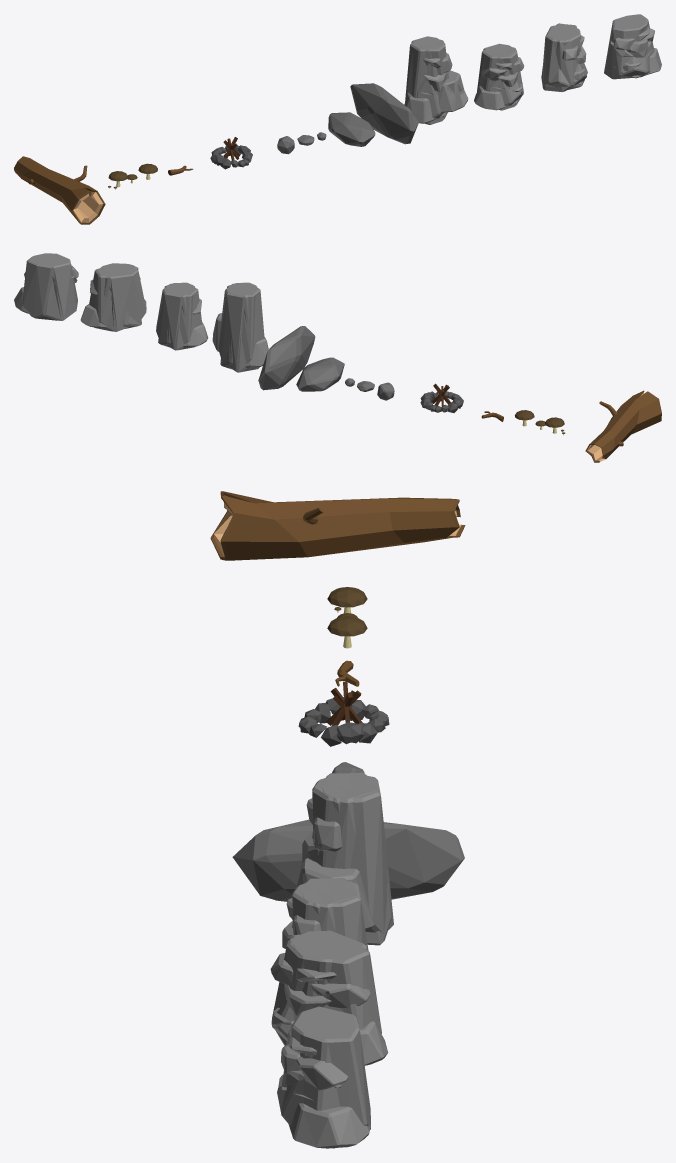
File: Decoraciones.fbx
The picture shows the model from 3 angles, top to bottom: view 1: azimuth 30°, elevation 25°; view 2: azimuth 150°, elevation 25°; view 3: azimuth 270°, elevation 25°; orthographic projection. The views are drawn at different scales.
Visible parts, largest first — view 1: Cylinder.001, Cylinder.004, Cylinder, Cylinder.002, Cylinder.003, Icosphere.006, Icosphere.002, Icosphere.004; view 2: Cylinder.001, Cylinder.003, Cylinder.004, Cylinder.002, Cylinder, Icosphere.006, Icosphere.002, Icosphere.004; view 3: Cylinder, Cylinder.004, Cylinder.001, Cylinder.003, Icosphere.006, Cylinder.002, Icosphere.004.
Part boxes in pixels (x1,y1,x2,y2): Cylinder.001: (404, 36, 468, 124); Cylinder.004: (604, 14, 661, 79); Cylinder: (14, 156, 105, 224); Cylinder.002: (474, 43, 524, 110); Cylinder.003: (541, 23, 587, 91); Icosphere.006: (350, 83, 418, 144); Icosphere.002: (328, 112, 375, 146); Icosphere.004: (210, 137, 252, 169); Cylinder.001: (212, 282, 268, 372); Cylinder.003: (80, 263, 146, 331); Cylinder.004: (14, 253, 78, 320); Cylinder.002: (156, 282, 208, 350); Cylinder: (585, 390, 661, 462); Icosphere.006: (258, 326, 315, 390); Icosphere.002: (296, 357, 344, 391); Icosphere.004: (420, 383, 463, 412); Cylinder: (210, 491, 465, 560); Cylinder.004: (277, 1006, 370, 1148); Cylinder.001: (292, 772, 393, 945); Cylinder.003: (270, 930, 388, 1065); Icosphere.006: (232, 819, 464, 901); Cylinder.002: (282, 878, 368, 950); Icosphere.004: (298, 681, 389, 746).
Size of the model in its own units: 4202 by 521 by 750.
